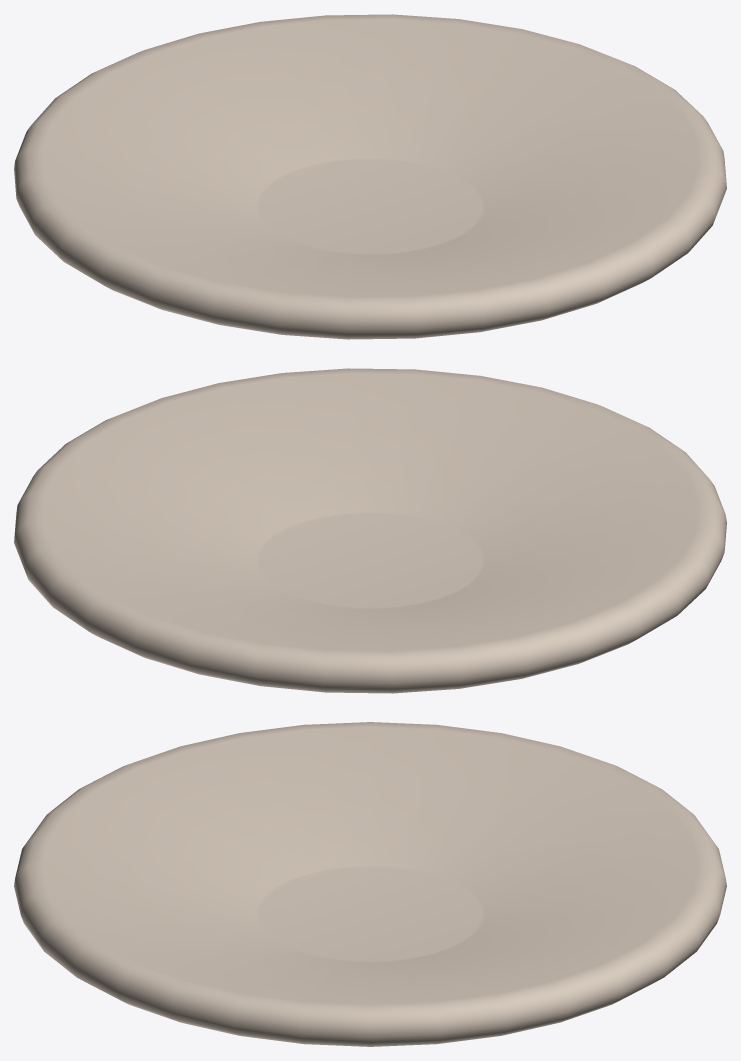
Rendered from SM_coffee_plate.fbx.
The picture shows the model from 3 angles, top to bottom: view 1: azimuth 30°, elevation 25°; view 2: azimuth 150°, elevation 25°; view 3: azimuth 270°, elevation 25°; orthographic projection.
Visible parts, largest first — view 1: SM_coffee_plate; view 2: SM_coffee_plate; view 3: SM_coffee_plate.
Part boxes in pixels (box(x1,y1,x2,y2)): SM_coffee_plate: box(14, 14, 726, 339); SM_coffee_plate: box(14, 368, 726, 693); SM_coffee_plate: box(14, 722, 726, 1046).
Size of the model in its own units: 22.67 by 2.96 by 22.67.
1 material, 1 textured.
